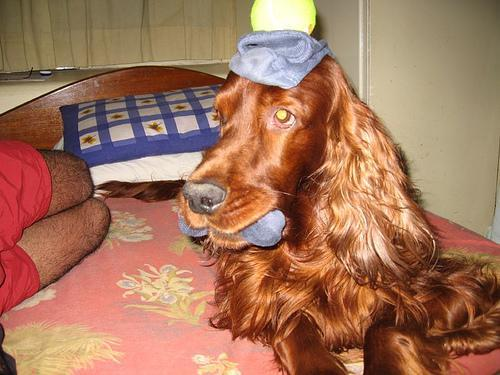Irish_setter: (175, 30, 499, 374)
